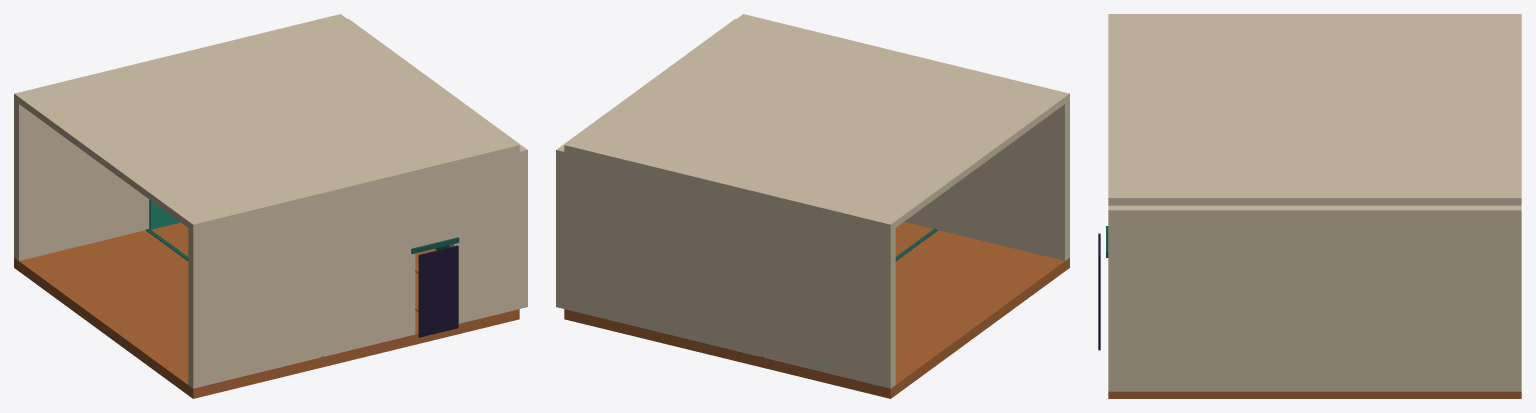
The model's file is lantern_galley_site_room.gltf.
The picture shows the model from 3 angles, left to right: view 1: azimuth 30°, elevation 25°; view 2: azimuth 150°, elevation 25°; view 3: azimuth 270°, elevation 25°; orthographic projection. The views are drawn at different scales.
Parts seen in each view (by area): view 1: ceiling, right_wall, floor, left_wall, right_wall.2, doorway, lintel, back_wall, left_dado; view 2: ceiling, left_wall, floor, right_wall, back_wall; view 3: ceiling, back_wall, floor.
Boxes of the visible parts, x1,y1,x2,y2 form: ceiling: [14, 14, 519, 231]; right_wall: [188, 177, 415, 388]; floor: [14, 222, 519, 398]; left_wall: [14, 100, 149, 260]; right_wall.2: [449, 152, 519, 323]; doorway: [418, 245, 458, 337]; lintel: [415, 168, 454, 247]; back_wall: [348, 19, 527, 308]; left_dado: [149, 199, 180, 229]; ceiling: [564, 14, 1069, 231]; left_wall: [564, 152, 895, 388]; floor: [564, 222, 1069, 398]; right_wall: [904, 100, 1069, 260]; back_wall: [556, 19, 735, 308]; ceiling: [1108, 14, 1521, 205]; back_wall: [1108, 205, 1521, 391]; floor: [1108, 391, 1521, 398].
Size of the model in its own units: 10.25 by 5.1 by 9.72.
